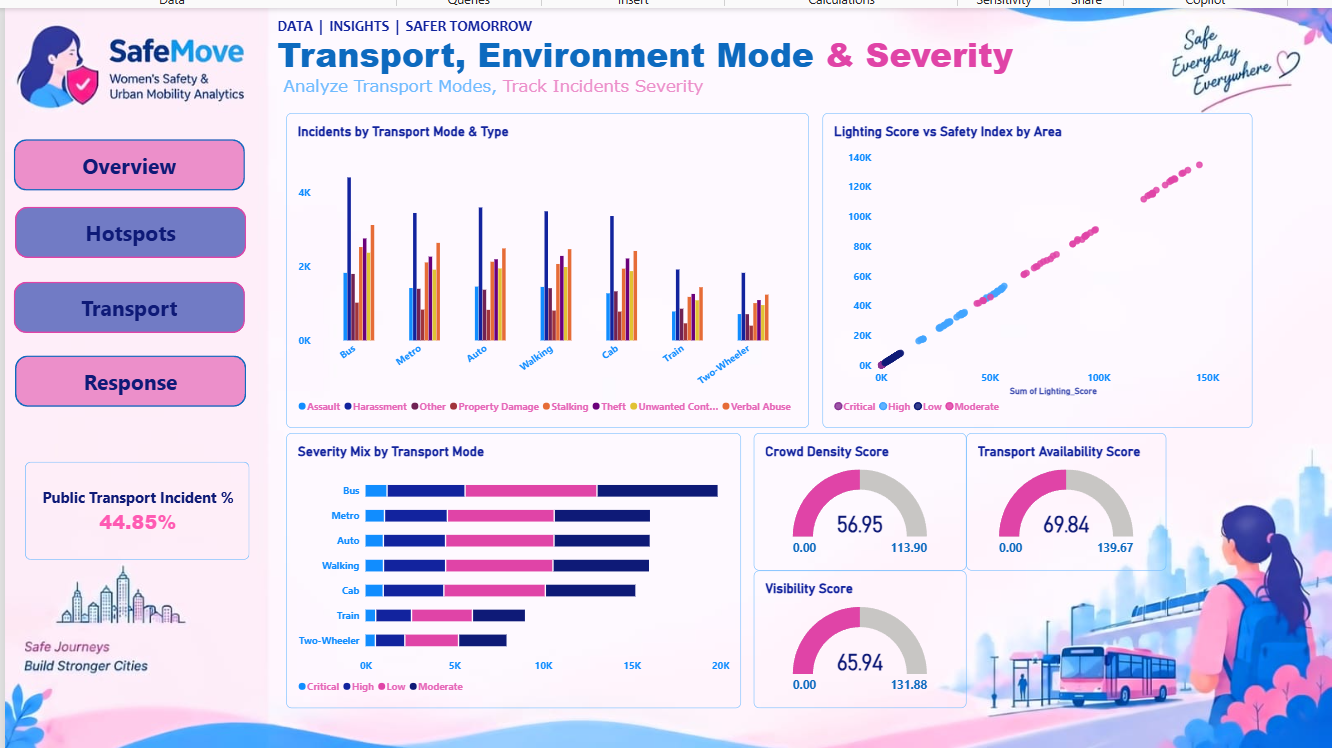

The dashboard page shown, as its layout file describes it:
{"tool":"powerbi","page":{"name":"Transport, Environment Mode & Severity","canvas":[1920,1080],"ordinal":2},"visuals":[{"type":"textbox","box":[394.5,12.7,1046,39.8],"z":0},{"type":"textbox","box":[394.5,32.6,1286.7,81.4],"z":1000},{"type":"textbox","box":[394.5,97.7,644.2,39.8],"z":2000},{"type":"clusteredColumnChart","title":"Incidents by Transport Mode & Type","fields":{"Category":["db.Transport_Mode"],"Series":["db.Incident_Type"],"Y":["db.Total Incidents"]},"box":[407.2,152,756.4,456],"z":3000},{"type":"scatterChart","title":"Lighting Score vs Safety Index by Area","fields":{"Category":["db.Area"],"Series":["db.Risk_Level"],"X":["Sum(db.Lighting_Score)"],"Y":["Sum(db.Safety_Index)"]},"box":[1183.5,152,622.5,456],"z":4000},{"type":"barChart","title":"Severity Mix by Transport Mode","fields":{"Category":["db.Transport_Mode"],"Series":["db.Severity"],"Y":["db.Total Incidents"]},"box":[407.2,615.3,658.7,398.1],"z":5000},{"type":"gauge","title":" Crowd Density Score","fields":{"Y":["Avg(db.Crowd_Density_Score)"]},"box":[1084,615.3,307.6,199.1],"z":6000},{"type":"gauge","title":" Visibility Score","fields":{"Y":["Avg(db.Visibility_Score)"]},"box":[1084,814.3,307.6,199.1],"z":7000},{"type":"gauge","title":" Transport Availability Score","fields":{"Y":["Avg(db.Transport_Availability_Score)"]},"box":[1391.6,615.3,289.5,199.1],"z":8000},{"type":"cardVisual","fields":{"Data":["db.Public Transport Incident %"]},"box":[29,656.9,325.7,143],"z":9000},{"type":"shape","box":[12.7,190,334.8,74.2],"z":10000},{"type":"shape","box":[14.5,287.7,334.8,74.2],"z":11000},{"type":"shape","box":[12.7,396.3,334.8,74.2],"z":12000},{"type":"shape","box":[14.5,503.1,334.8,74.2],"z":13000}]}

Visuals, with their boxes on the page's 1920x1080 design canvas (x1, y1, x2, y2). These are canvas units, not pixel positions in the 1332x748 screenshot, which may show the page scaled, cropped or inside an application window:
textbox: left=394, top=13, right=1440, bottom=52
textbox: left=394, top=33, right=1681, bottom=114
textbox: left=394, top=98, right=1039, bottom=138
"Incidents by Transport Mode & Type" clusteredColumnChart: left=407, top=152, right=1164, bottom=608
"Lighting Score vs Safety Index by Area" scatterChart: left=1184, top=152, right=1806, bottom=608
"Severity Mix by Transport Mode" barChart: left=407, top=615, right=1066, bottom=1013
" Crowd Density Score" gauge: left=1084, top=615, right=1392, bottom=814
" Visibility Score" gauge: left=1084, top=814, right=1392, bottom=1013
" Transport Availability Score" gauge: left=1392, top=615, right=1681, bottom=814
cardVisual - db.Public Transport Incident %: left=29, top=657, right=355, bottom=800
shape: left=13, top=190, right=348, bottom=264
shape: left=14, top=288, right=349, bottom=362
shape: left=13, top=396, right=348, bottom=470
shape: left=14, top=503, right=349, bottom=577
